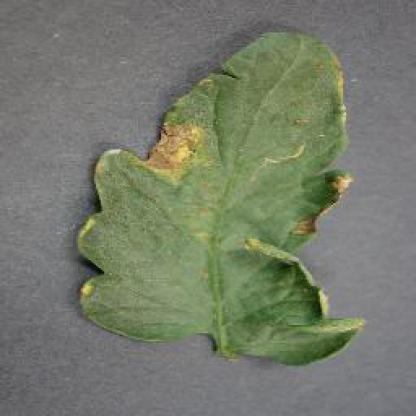bad leaf: (61, 209, 359, 367), (186, 21, 332, 232), (74, 41, 226, 225), (216, 221, 327, 315), (281, 59, 363, 130), (276, 168, 373, 217)
